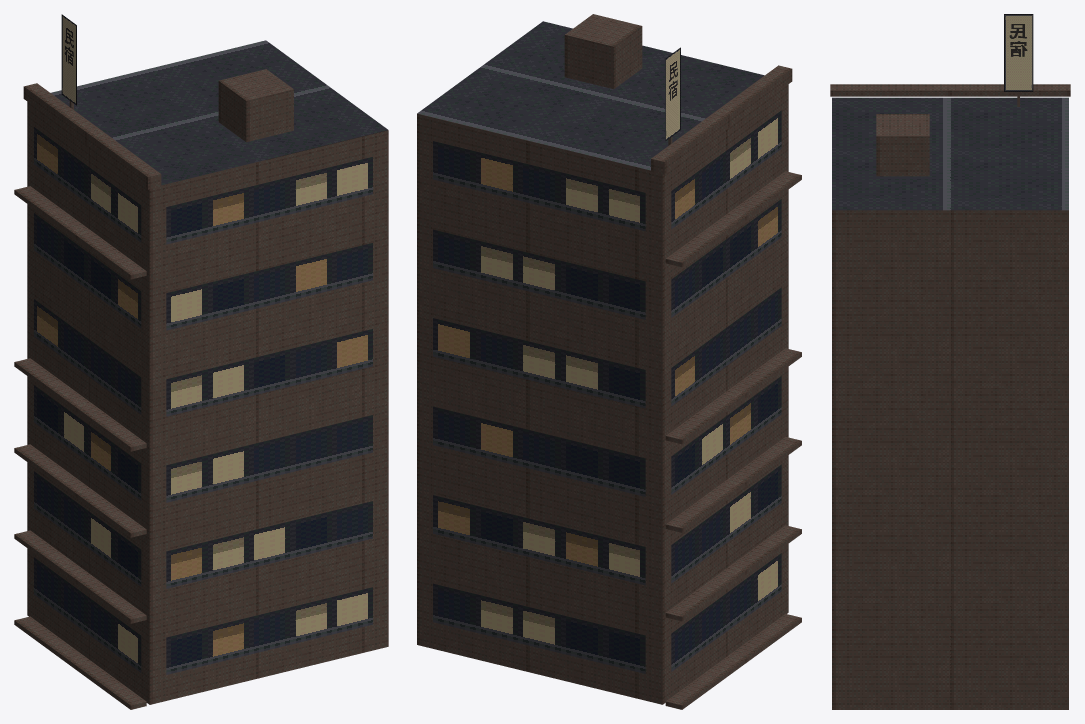
File: mtn_block_dn_c.glb
3 renders of one model, left to right at view 1: azimuth 30°, elevation 25°; view 2: azimuth 150°, elevation 25°; view 3: azimuth 270°, elevation 25°, orthographic. The views are drawn at different scales.
Visible parts, largest first — view 1: mtn_block_dn_c; view 2: mtn_block_dn_c; view 3: mtn_block_dn_c.
Part boxes in pixels (x1,y1,x2,y2): mtn_block_dn_c: (14, 14, 388, 709); mtn_block_dn_c: (417, 14, 801, 709); mtn_block_dn_c: (830, 14, 1070, 709).
Size of the model in its own units: 9.6 by 22.12 by 8.1.
Materials: 4 (4 with a texture image).
